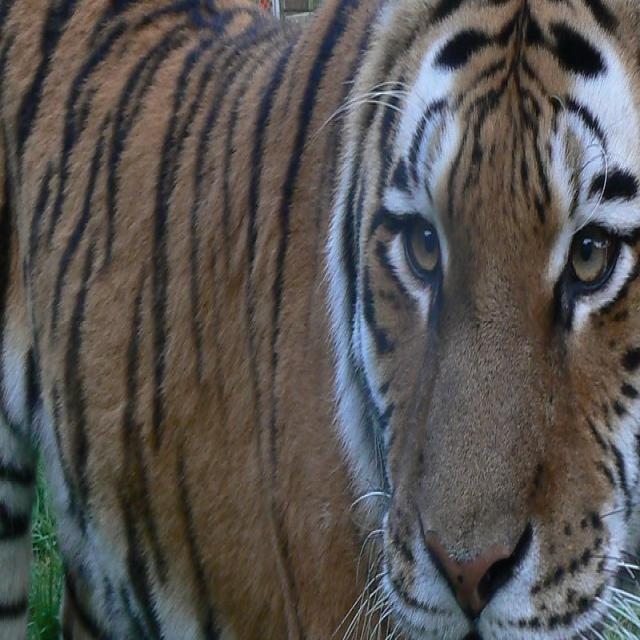Tiger: (2, 0, 636, 636)
